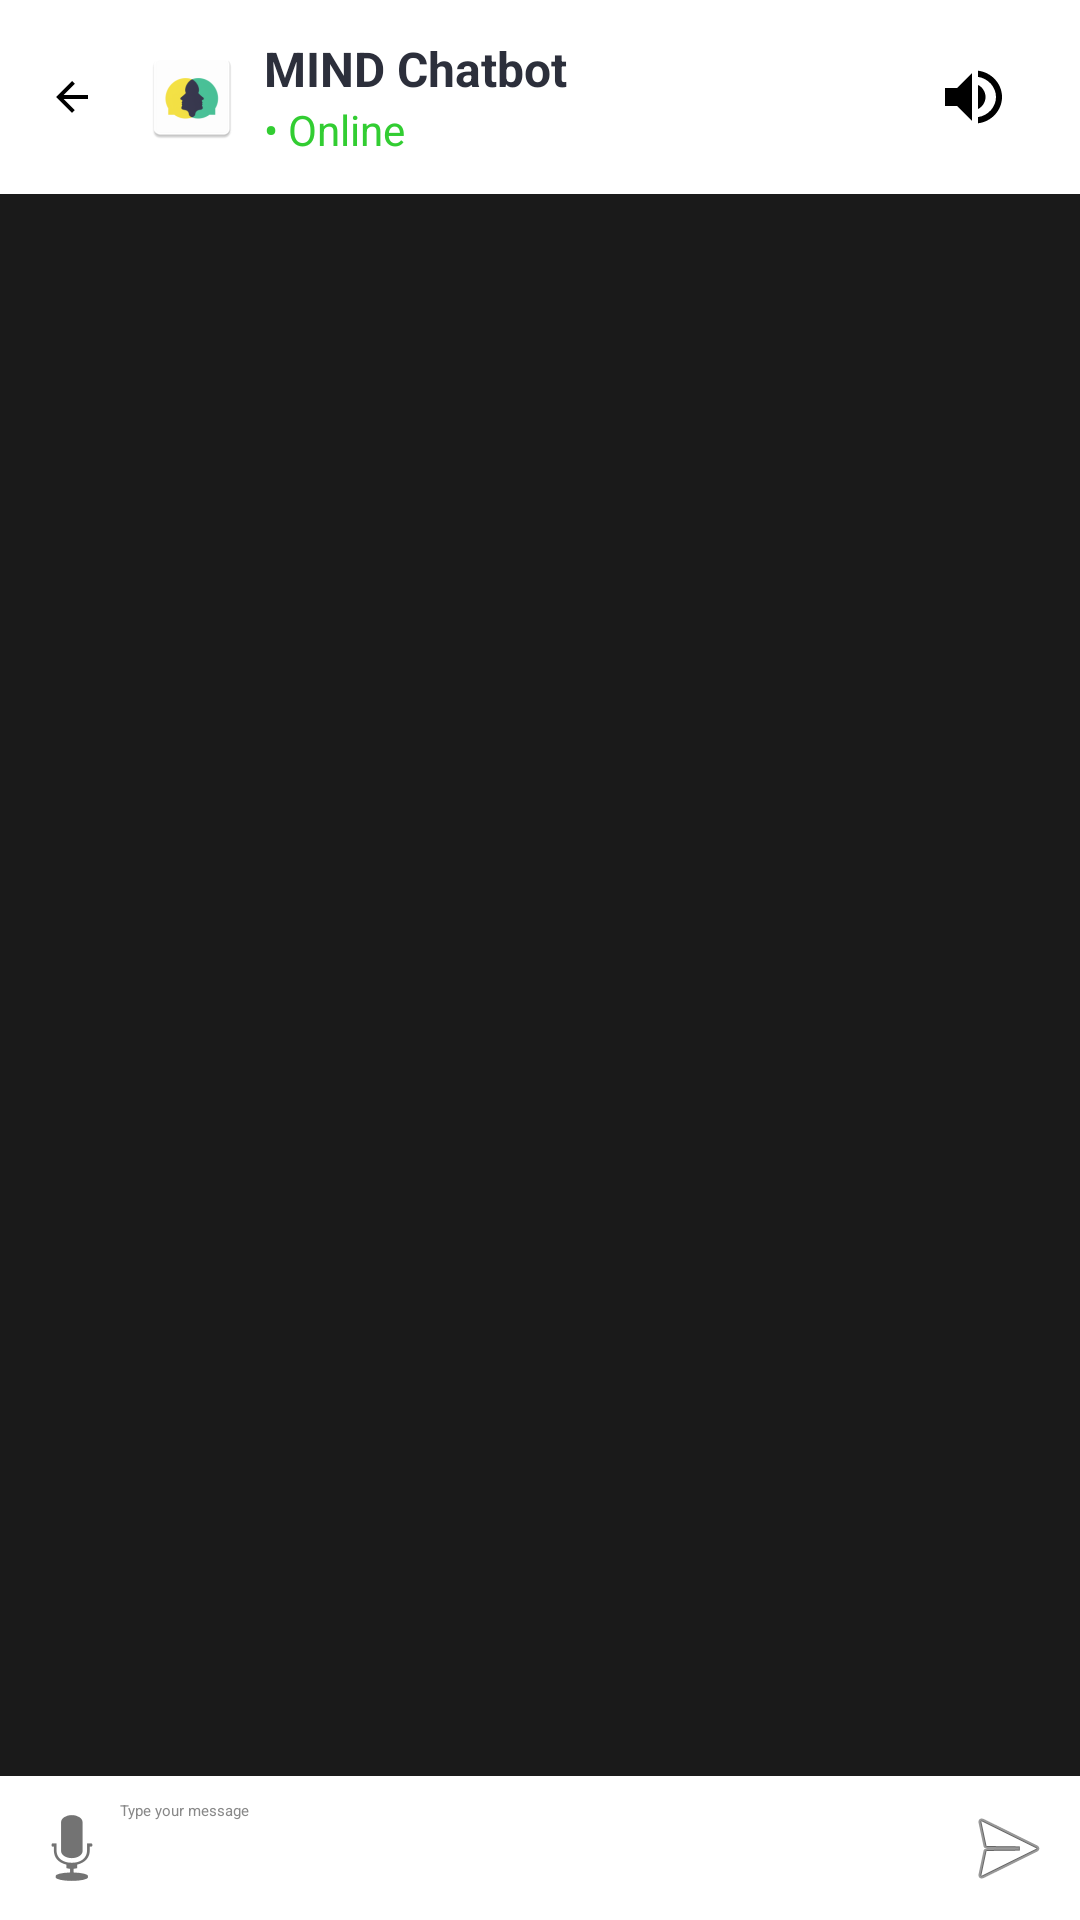

Icon bounding boxes for this 1080w x 1920h phone screenshot, format (x1, y1, x2, y2):
Back: (56, 81, 88, 113)
Send: (978, 1818, 1040, 1879)
Sound: (945, 70, 1002, 124)
Voice: (51, 1815, 93, 1881)
